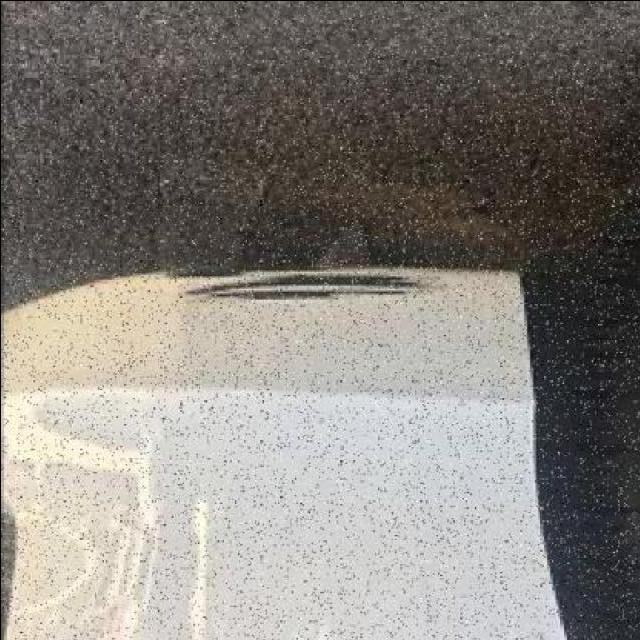front-bumper-dent: (3, 258, 640, 634)
